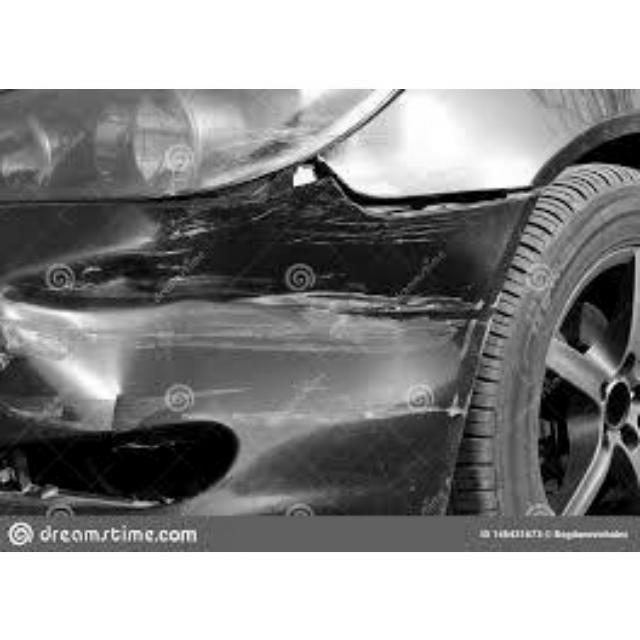front-bumper-dent: (10, 166, 531, 515)
